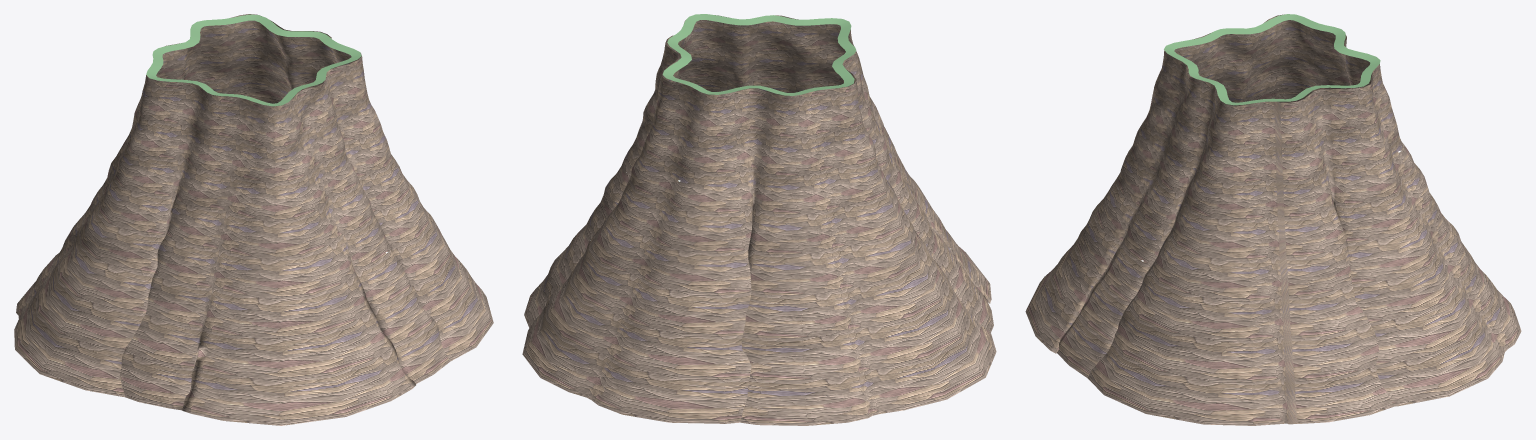
Rendered from CliffWall_stack_11.glb.
3 views of the same model, side by side, from view 1: azimuth 30°, elevation 25°; view 2: azimuth 150°, elevation 25°; view 3: azimuth 270°, elevation 25° (orthographic). The views are drawn at different scales.
Parts seen in each view (by area): view 1: CliffWall_stack_11-rock0, CliffWall_stack_11-lip0; view 2: CliffWall_stack_11-rock0, CliffWall_stack_11-lip0; view 3: CliffWall_stack_11-rock0, CliffWall_stack_11-lip0.
Part boxes in pixels (x1,y1,x2,y2): CliffWall_stack_11-rock0: (14, 14, 493, 425); CliffWall_stack_11-lip0: (146, 14, 361, 106); CliffWall_stack_11-rock0: (522, 15, 996, 425); CliffWall_stack_11-lip0: (662, 14, 856, 95); CliffWall_stack_11-rock0: (1025, 14, 1521, 425); CliffWall_stack_11-lip0: (1164, 14, 1380, 105).
Bounding box in the file's own units: 415 × 248 × 422.
Materials: 4 (1 with a texture image).
